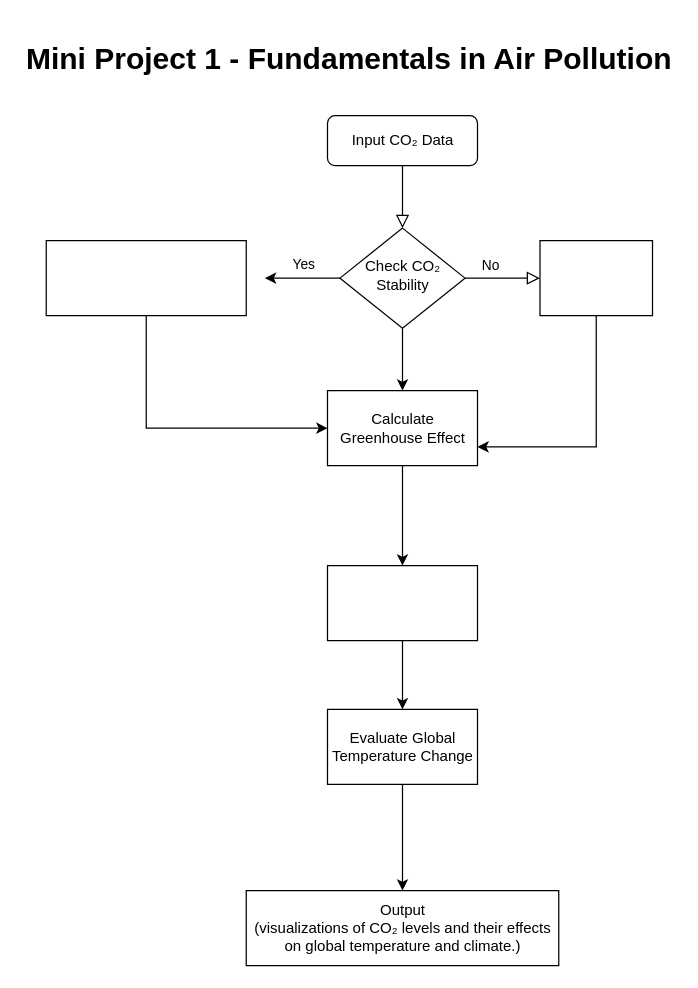
This 698x988 diagram has some shape labels left out. The shapes that lost their labels are listed below. From the top down, each one's centre as x and y in pixels, then its label:
(145,277): Perform calculations to assess energy balance with stable CO₂.
(595,277): Increase CO₂ Levels (x2)
(402,602): Assess Heat Transport Efficiency
